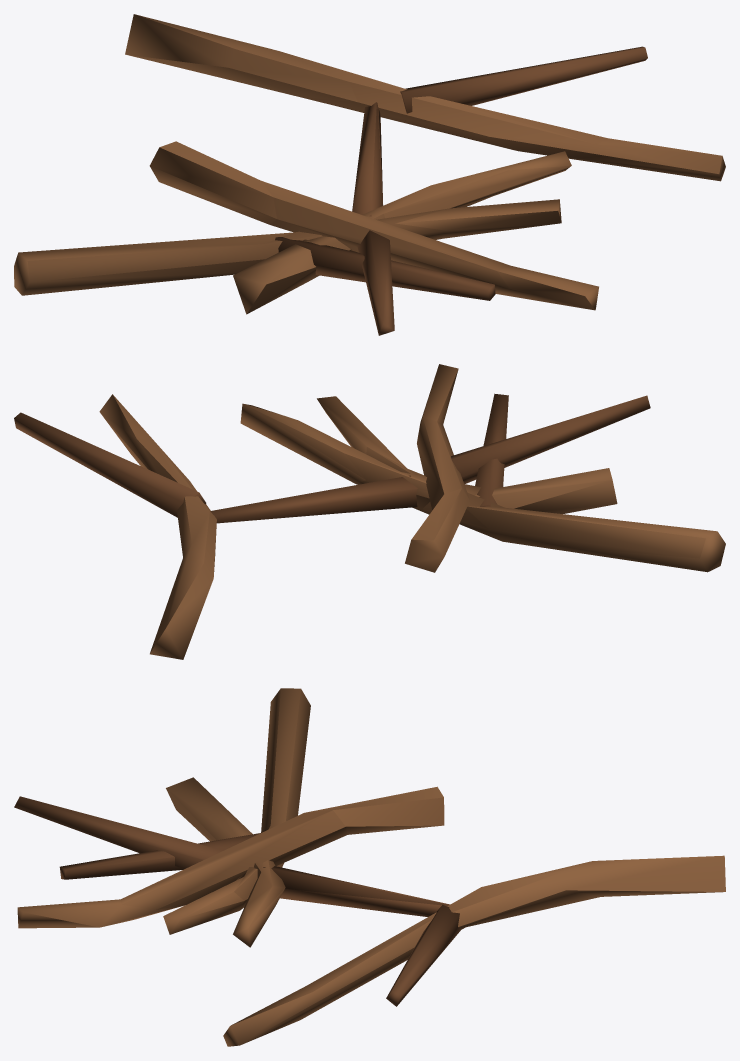
The model's file is glade_gc_twigs_b_lod1.glb.
3 views of the same model, one above another, from view 1: azimuth 30°, elevation 25°; view 2: azimuth 150°, elevation 25°; view 3: azimuth 270°, elevation 25° (orthographic). The views are drawn at different scales.
Visible parts, largest first — view 1: glade_gc_twigs_b.001; view 2: glade_gc_twigs_b.001; view 3: glade_gc_twigs_b.001.
Boxes of the visible parts, box(x1,y1,x2,y2) form: glade_gc_twigs_b.001: box(14, 14, 725, 335); glade_gc_twigs_b.001: box(14, 364, 725, 659); glade_gc_twigs_b.001: box(14, 688, 725, 1046).
Bounding box in the file's own units: 4.34 × 0.4219 × 4.21.
